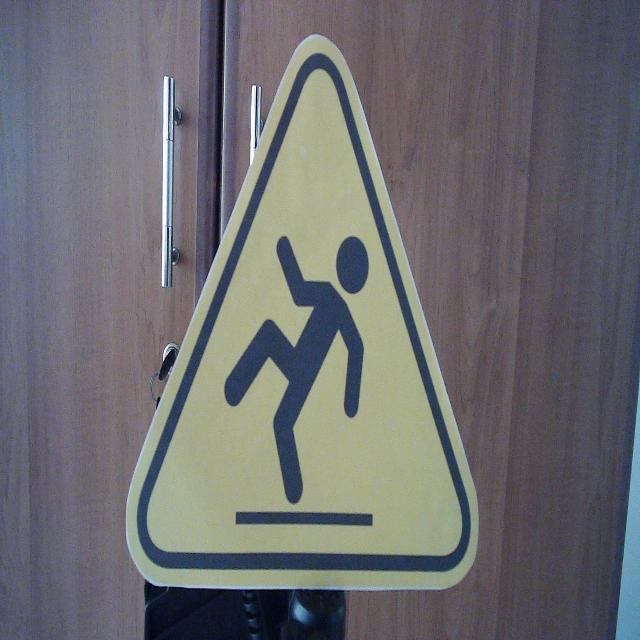slippery_sign: (124, 31, 482, 594)
